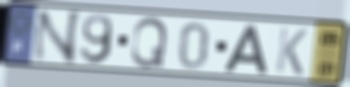0: (177, 20, 213, 71)
9: (79, 13, 116, 66)
A: (221, 24, 269, 75)
K: (273, 25, 310, 78)
N: (30, 10, 85, 66)
Q: (129, 16, 170, 70)
